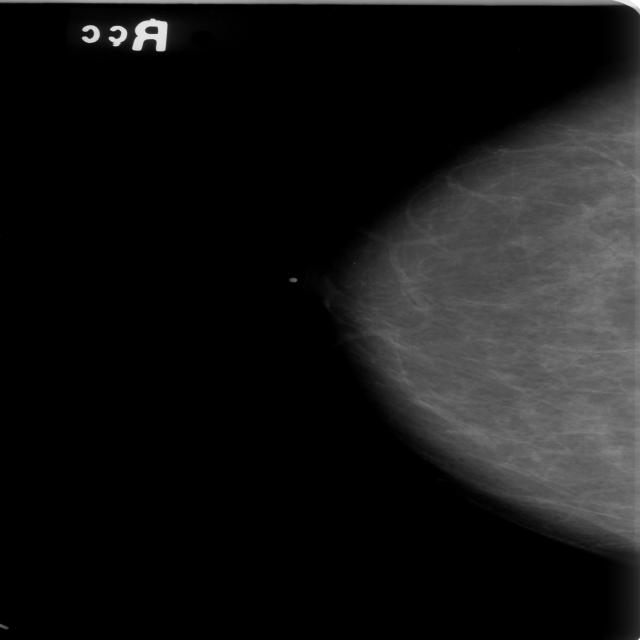normal: (299, 62, 640, 550)
